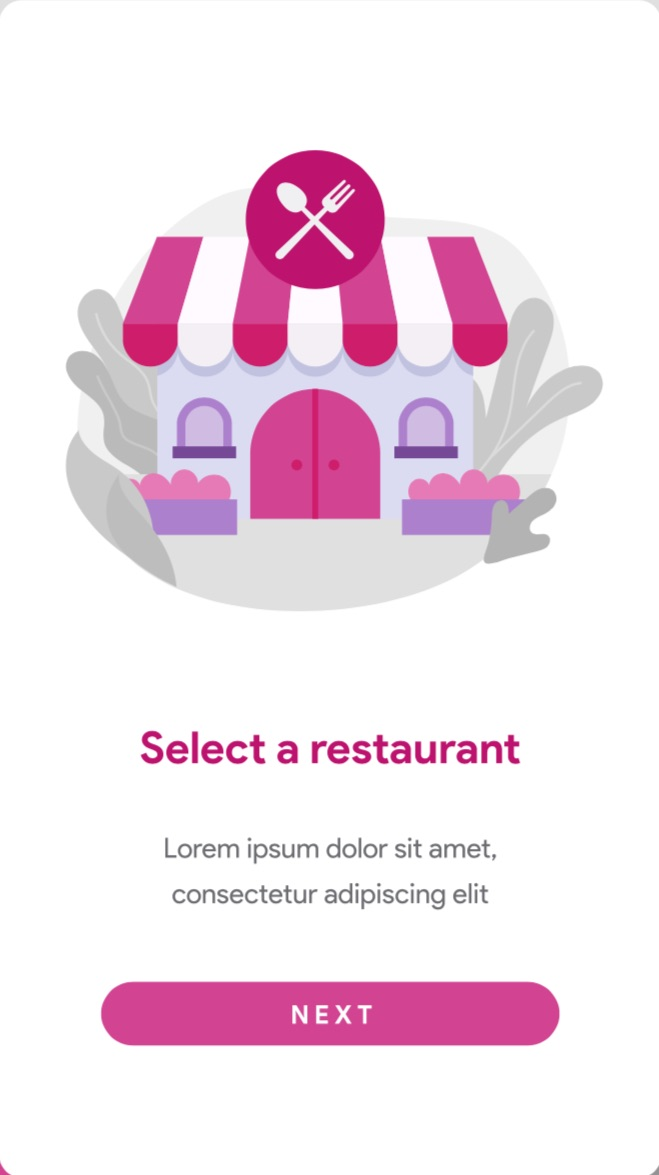Image: (66, 149, 605, 614)
Text: (165, 836, 497, 911), (132, 725, 522, 770)
TextButton: (101, 981, 560, 1046)
